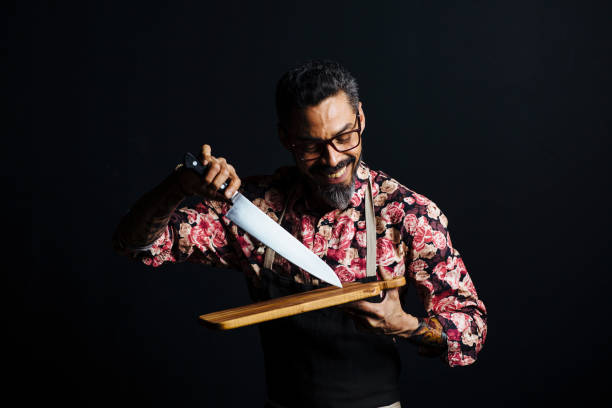knife: (181, 149, 345, 290)
